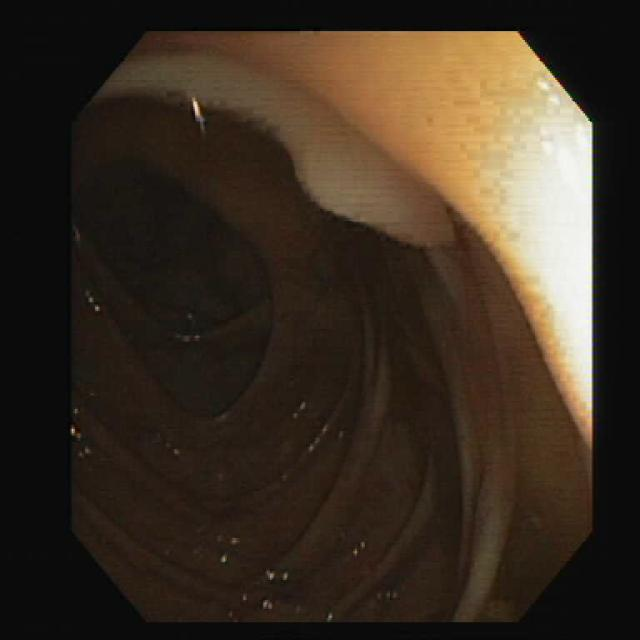tumor: (277, 96, 453, 247)
